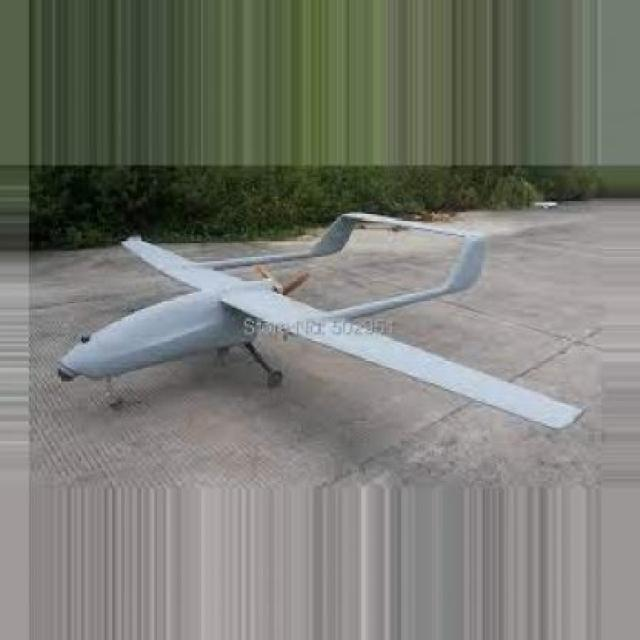iha: (53, 211, 583, 456)
